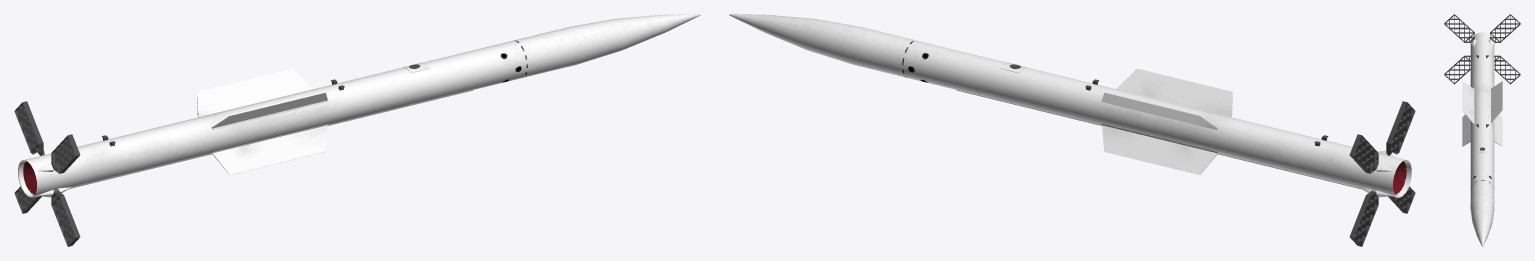
File: R77 Vympel.fbx
3 views of the same model, side by side, from view 1: azimuth 30°, elevation 25°; view 2: azimuth 150°, elevation 25°; view 3: azimuth 270°, elevation 25° (orthographic). The views are drawn at different scales.
Parts seen in each view (by area): view 1: R-77; view 2: R-77; view 3: R-77.
Part boxes in pixels (left/top/right/bottom): R-77: left=14, top=14, right=700, bottom=246; R-77: left=729, top=14, right=1415, bottom=246; R-77: left=1444, top=14, right=1520, bottom=246.
Bounding box in the file's own units: 360 × 57.11 × 57.11.
1 material, 1 textured.
